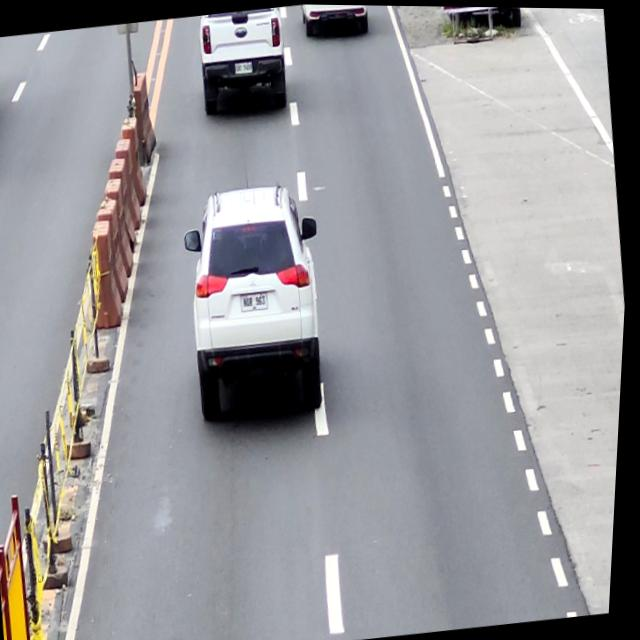Car: (174, 179, 343, 421), (191, 4, 294, 119)
License-Plate: (242, 290, 273, 312), (234, 60, 254, 73)
